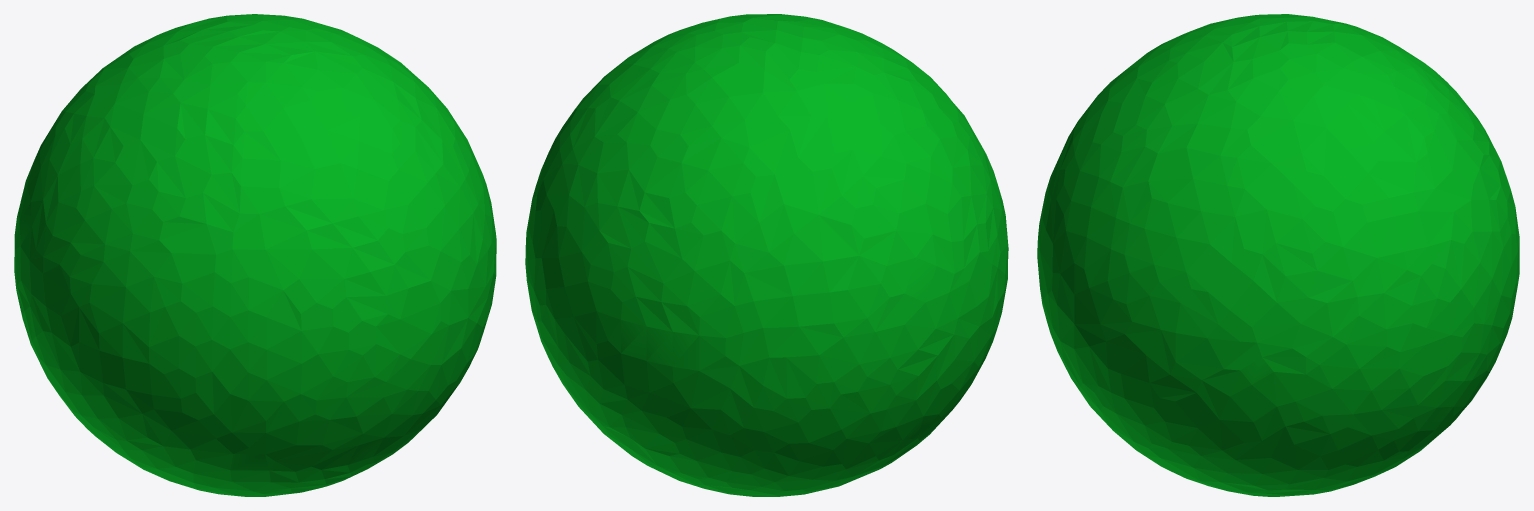
3 renders of one model, left to right at view 1: azimuth 30°, elevation 25°; view 2: azimuth 150°, elevation 25°; view 3: azimuth 270°, elevation 25°, orthographic.
Parts seen in each view (by area): view 1: default; view 2: default; view 3: default.
Part boxes in pixels (x1,y1,x2,y2): default: (14, 14, 496, 496); default: (525, 14, 1008, 496); default: (1037, 14, 1519, 496).
Bounding box in the file's own units: 0.9988 × 0.9976 × 0.9985.
